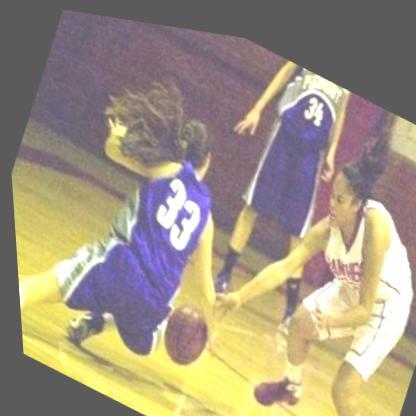basketball: (147, 286, 218, 377)
